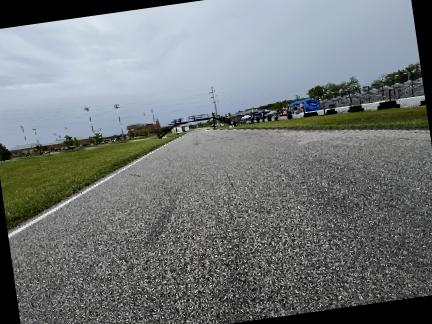Grass: (0, 136, 177, 229), (235, 106, 428, 129)
Lane: (9, 129, 431, 323)
